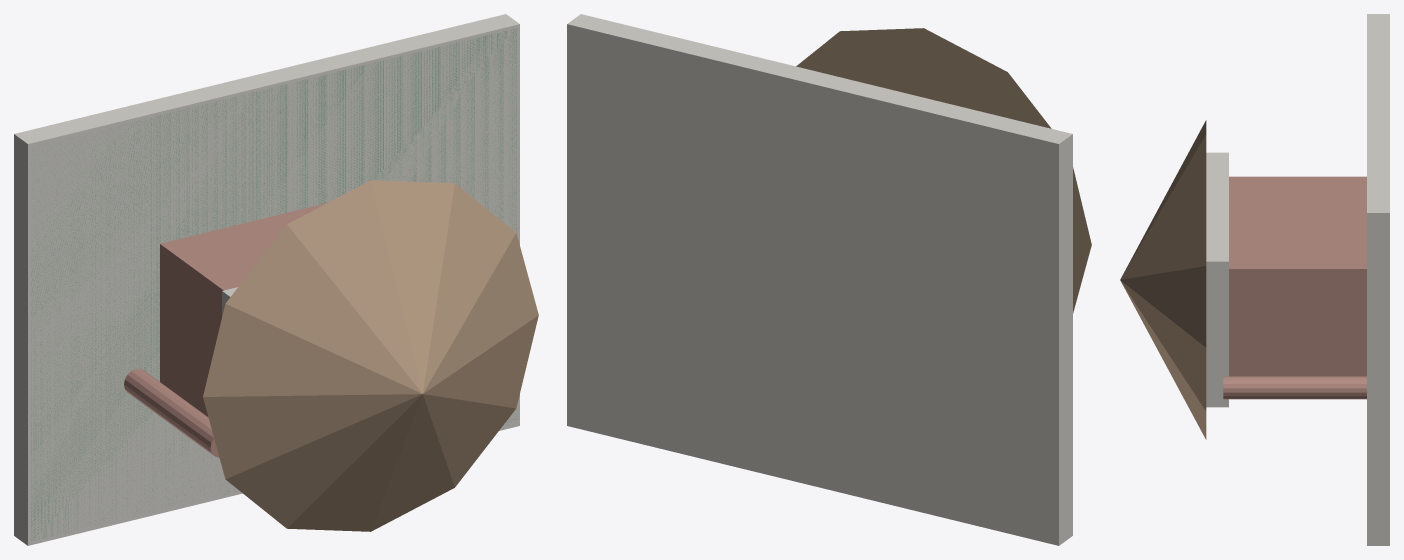
File: hsinchu_gate.glb
3 views of the same model, side by side, from view 1: azimuth 30°, elevation 25°; view 2: azimuth 150°, elevation 25°; view 3: azimuth 270°, elevation 25° (orthographic). The views are drawn at different scales.
Parts seen in each view (by area): view 1: g0, g5, g1, g2, g6; view 2: g0, g5; view 3: g2, g5, g0, g4, g7.
Part boxes in pixels (<box>): g0: <box>14,14,519,545</box>; g5: <box>203,180,538,531</box>; g1: <box>31,28,516,540</box>; g2: <box>160,203,326,416</box>; g6: <box>124,368,219,457</box>; g0: <box>567,14,1072,545</box>; g5: <box>796,28,1091,313</box>; g2: <box>1229,176,1366,376</box>; g5: <box>1120,120,1206,439</box>; g0: <box>1367,14,1389,545</box>; g4: <box>1206,152,1228,407</box>; g7: <box>1223,376,1366,399</box>.
Bounding box in the file's own units: 82 × 64 × 47.
